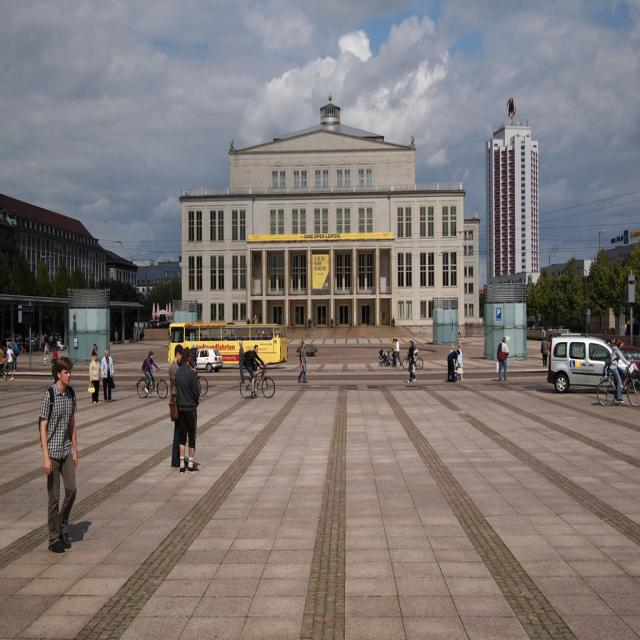car: (548, 326, 627, 396)
